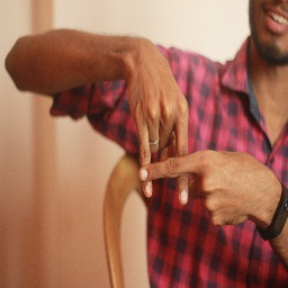H: (111, 95, 220, 213)
